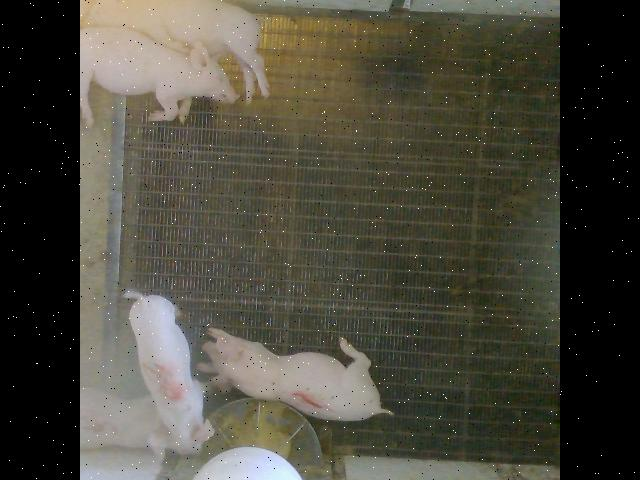pig-1: (199, 328, 391, 420)
pig-3: (81, 388, 162, 448)
pig-5: (126, 290, 212, 451)
